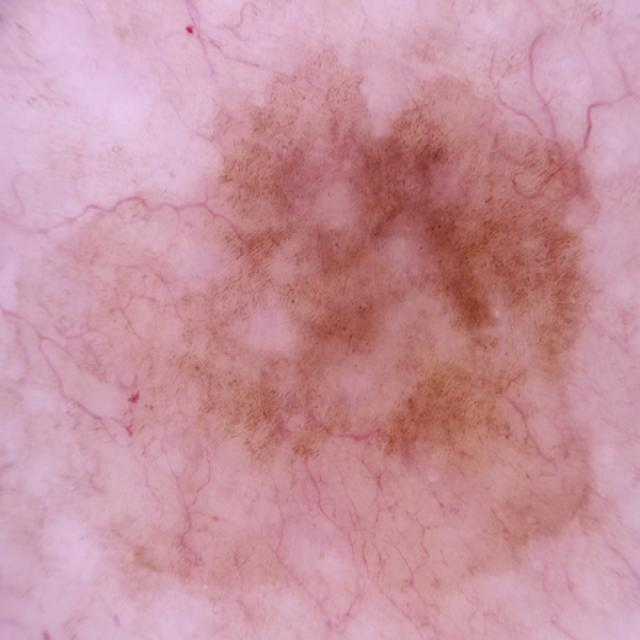Skin-Cancer Pigmented benign keratosis: (19, 10, 640, 623)
